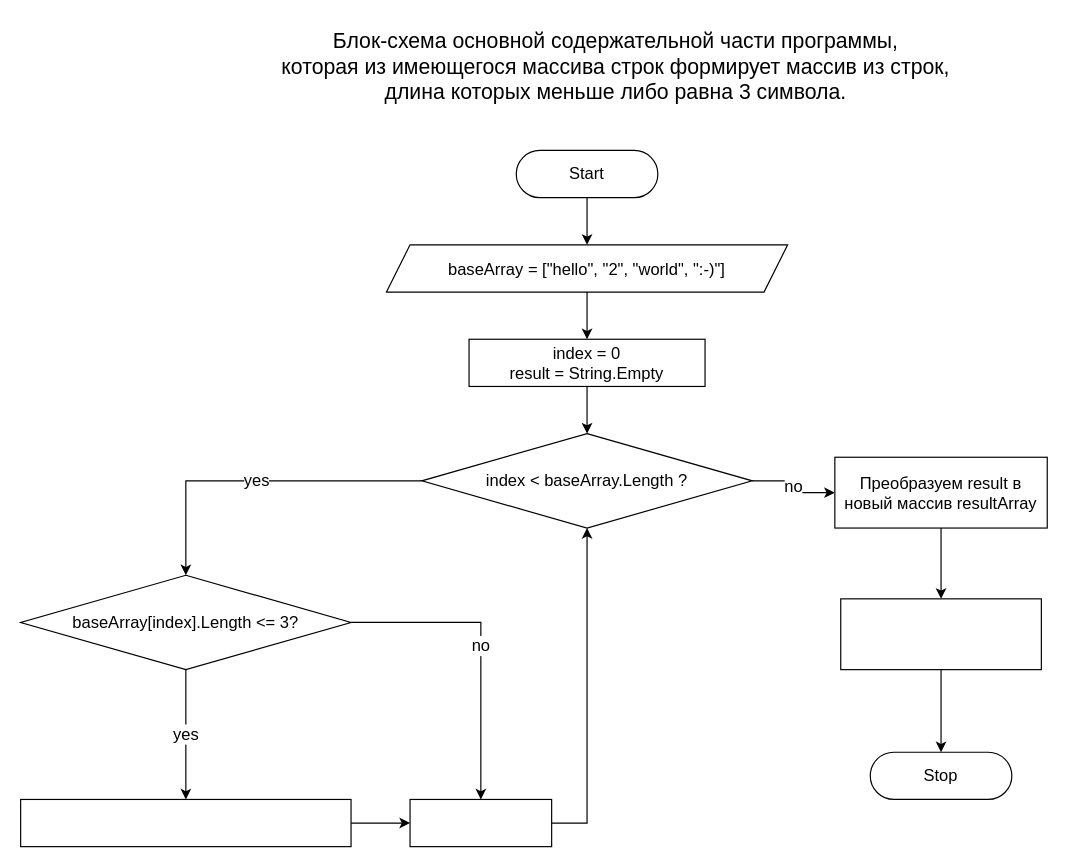
This 1068x867 diagram has some shape labels left out. Here are the shapes that lost their labels. From the top down, the centre of each, then its label:
pixel 940 634: WhriteLine(resultArray)
pixel 185 822: result = result + " " + baseArray[index]
pixel 480 822: index ++
